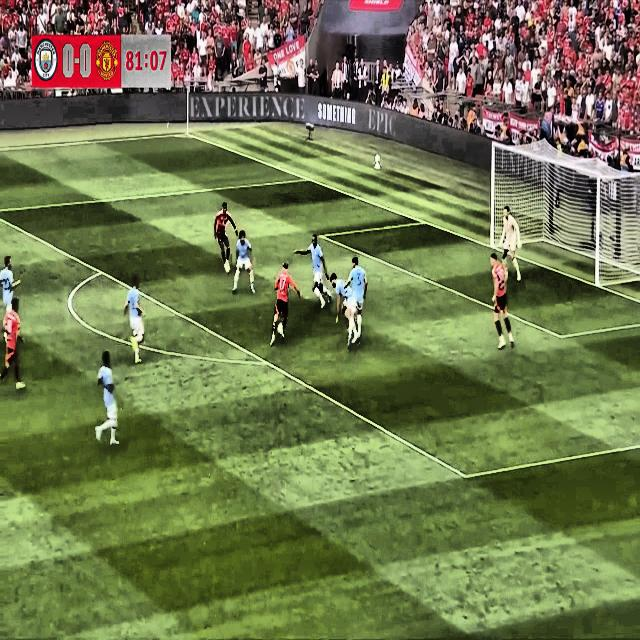ball: (277, 319, 287, 341)
goal_keeper: (496, 202, 530, 284)
players: (485, 246, 515, 356), (270, 254, 302, 354), (94, 344, 124, 449), (296, 232, 332, 312), (3, 294, 30, 399), (122, 270, 151, 362), (2, 244, 24, 345), (328, 271, 357, 346), (209, 200, 237, 273), (346, 251, 366, 345), (232, 227, 259, 296)
